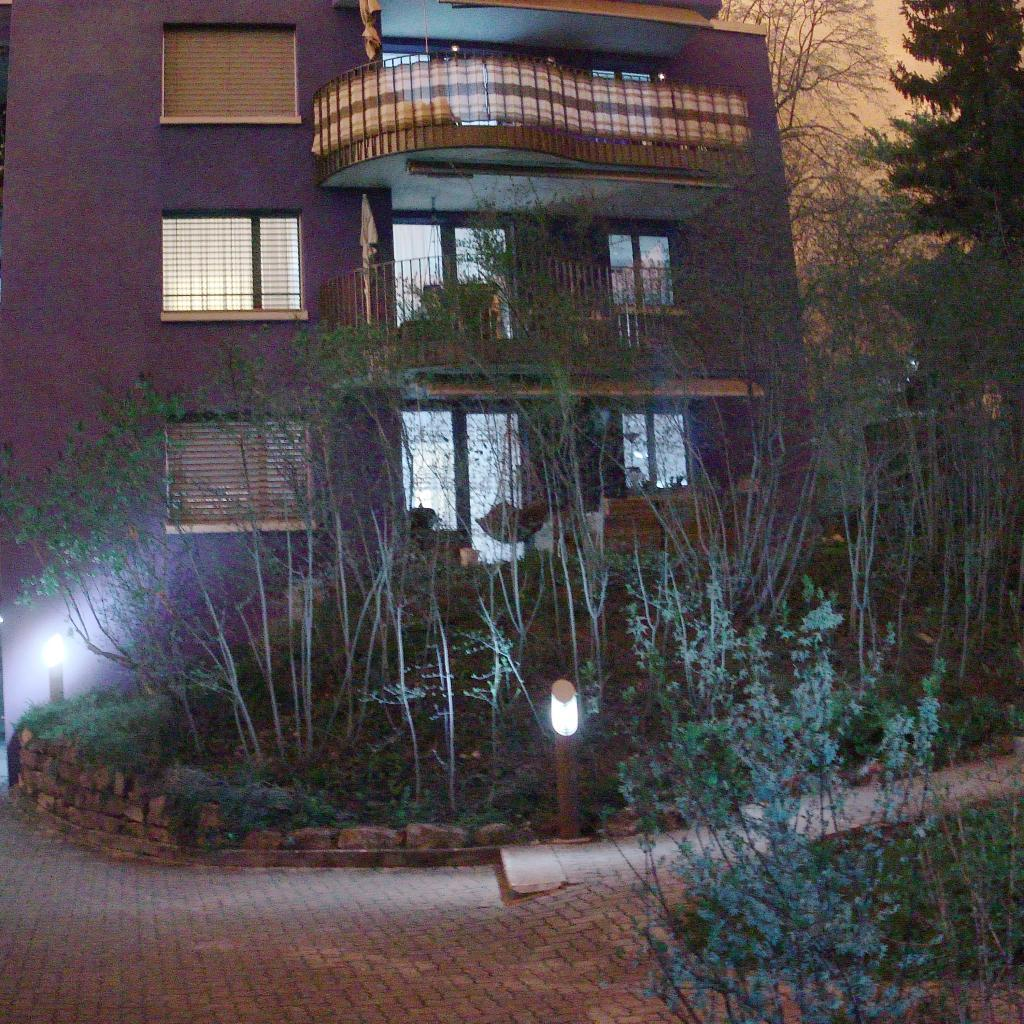balcony-fence: (312, 47, 760, 188), (317, 249, 761, 387)
street: (0, 725, 1024, 1024)
traffic-infrastructure: (548, 678, 582, 839), (47, 646, 66, 705)
vegetation: (0, 0, 1024, 1024)
window: (396, 408, 534, 566), (166, 414, 317, 530), (160, 209, 304, 316), (391, 219, 516, 339), (161, 22, 299, 121), (381, 50, 502, 126), (619, 411, 692, 491), (607, 232, 677, 312), (589, 68, 660, 145)
